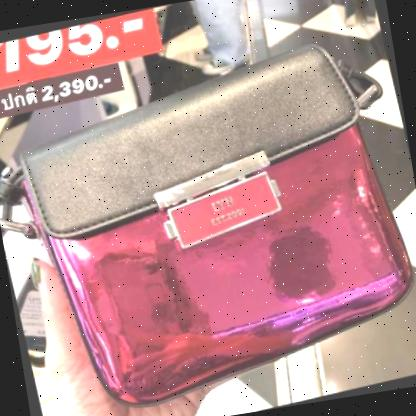bag: (2, 24, 416, 416)
